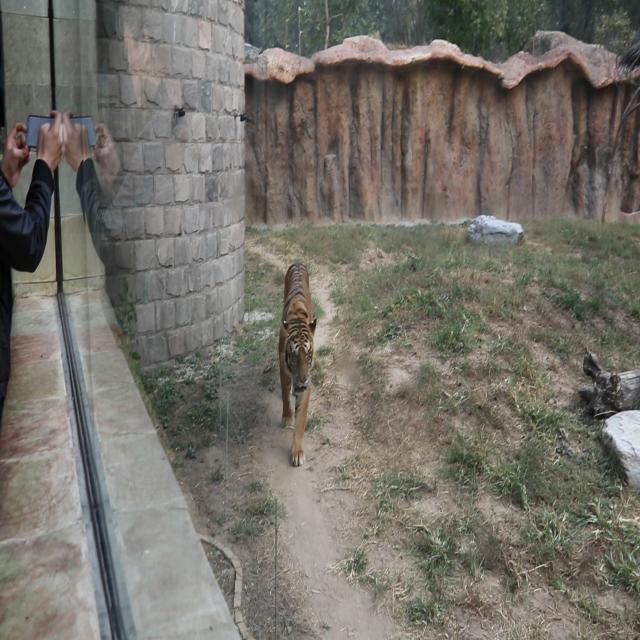Tiger: (262, 234, 326, 479)
